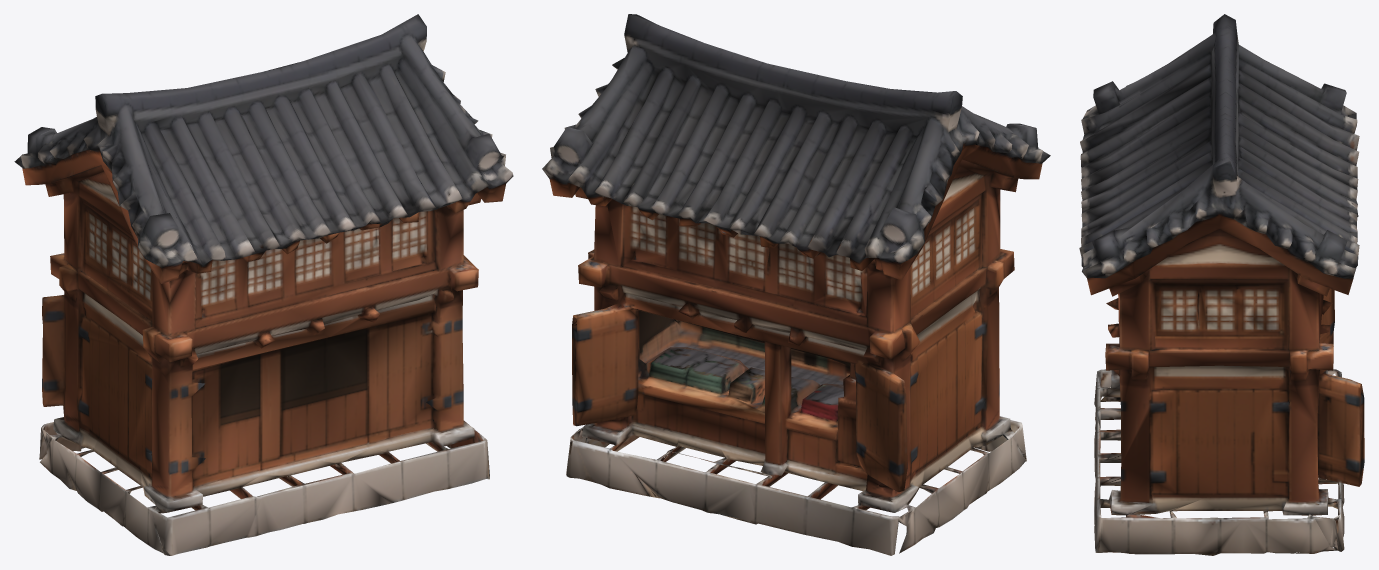
The model's file is sijeon.glb.
The picture shows the model from 3 angles, left to right: view 1: azimuth 30°, elevation 25°; view 2: azimuth 150°, elevation 25°; view 3: azimuth 270°, elevation 25°; orthographic projection. The views are drawn at different scales.
Parts seen in each view (by area): view 1: low; view 2: low; view 3: low.
Part boxes in pixels (box(x1,y1,x2,y2)): low: box(14, 14, 513, 555); low: box(542, 14, 1050, 555); low: box(1079, 14, 1364, 555).
Size of the model in its own units: 0.9264 by 1 by 0.6611.
Materials: 1 (1 with a texture image).
